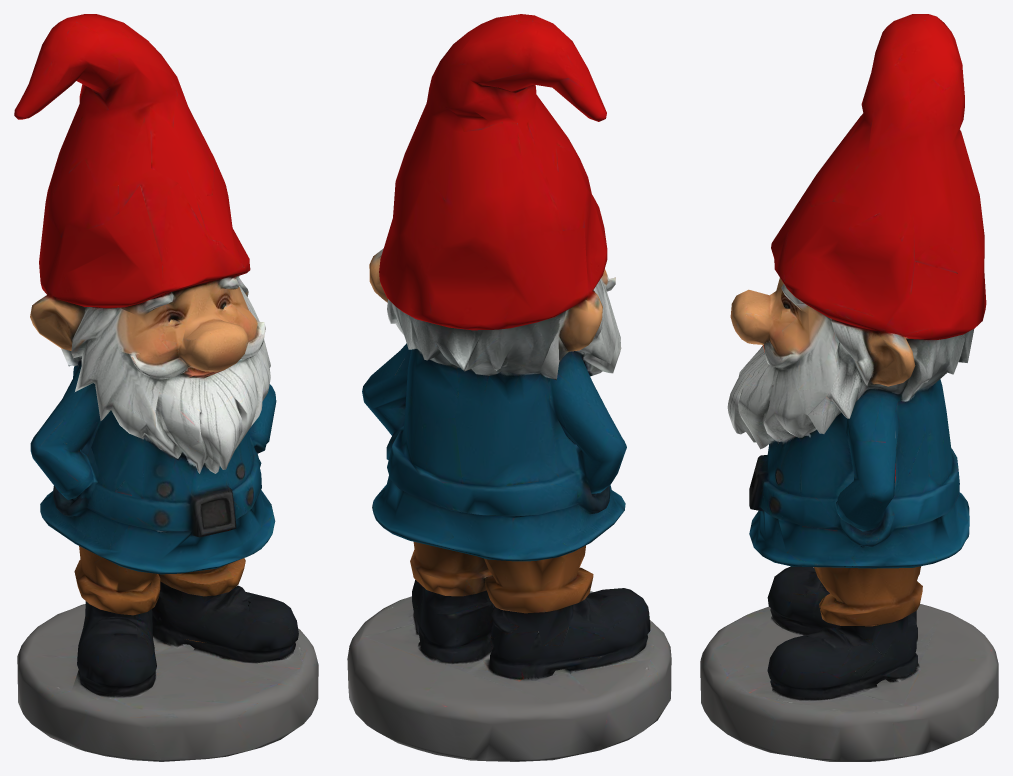
Rendered from token-garden-gnome.glb.
The picture shows the model from 3 angles, left to right: view 1: azimuth 30°, elevation 25°; view 2: azimuth 150°, elevation 25°; view 3: azimuth 270°, elevation 25°; orthographic projection. The views are drawn at different scales.
Size of the model in its own units: 0.7764 by 1.9 by 0.7773.
1 material, 1 textured.
